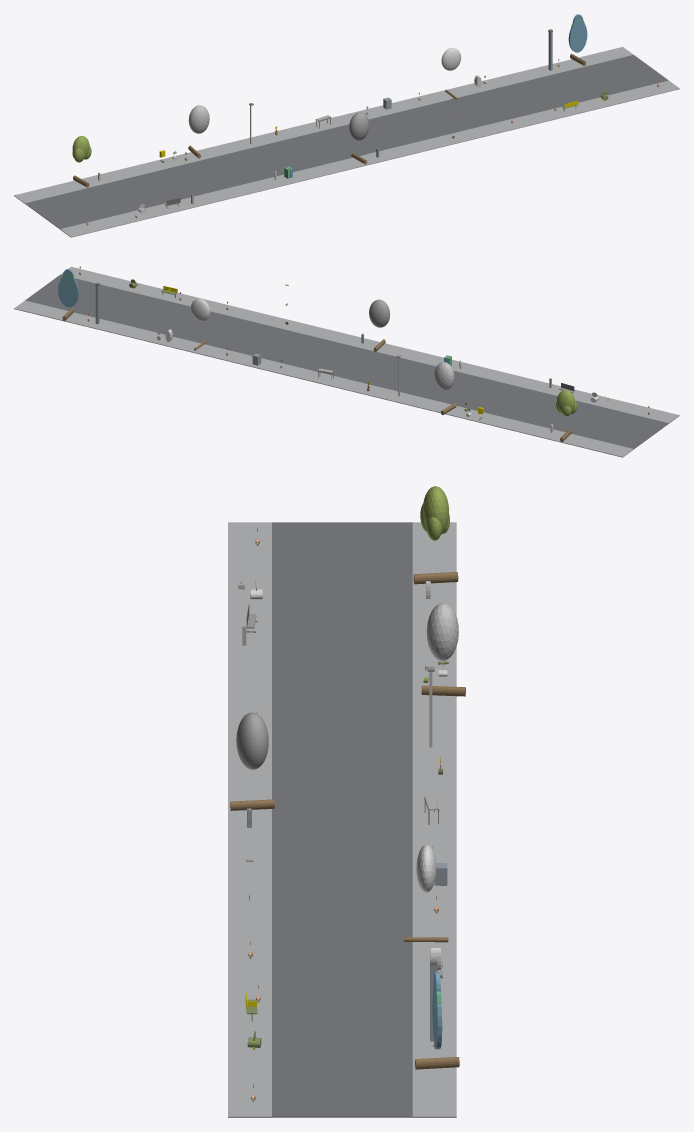
3 views of the same model, one above another, from view 1: azimuth 30°, elevation 25°; view 2: azimuth 150°, elevation 25°; view 3: azimuth 270°, elevation 25° (orthographic). The views are drawn at different scales.
Parts seen in each view (by area): view 1: road_slab, sidewalk_left, sidewalk_right, inst_0016, inst_0013, inst_0014, inst_0012, inst_0015; view 2: road_slab, sidewalk_right, sidewalk_left, inst_0016, inst_0013, inst_0014, inst_0012, inst_0015; view 3: road_slab, sidewalk_left, sidewalk_right, inst_0014, inst_0013, inst_0012, inst_0016, inst_0015.
Part boxes in pixels (x1,y1,x2,y2): road_slab: (25, 55, 668, 228); sidewalk_left: (60, 80, 679, 237); sidewalk_right: (14, 47, 633, 203); inst_0016: (568, 14, 587, 65); inst_0013: (188, 105, 209, 158); inst_0014: (349, 112, 369, 164); inst_0012: (72, 136, 91, 187); inst_0015: (441, 48, 461, 99); road_slab: (25, 274, 668, 448); sidewalk_right: (14, 300, 633, 457); sidewalk_left: (60, 266, 679, 423); inst_0016: (58, 269, 78, 321); inst_0013: (434, 362, 456, 415); inst_0014: (369, 299, 390, 351); inst_0012: (556, 390, 577, 442); inst_0015: (191, 298, 210, 350); road_slab: (272, 522, 412, 1117); sidewalk_left: (228, 522, 271, 1117); sidewalk_right: (412, 522, 456, 1117); inst_0014: (230, 712, 274, 810); inst_0013: (421, 602, 465, 696); inst_0012: (413, 486, 458, 584); inst_0016: (415, 971, 459, 1069); inst_0015: (404, 844, 448, 942).
Bounding box in the file's own units: 80 × 6.08 × 13.53.
